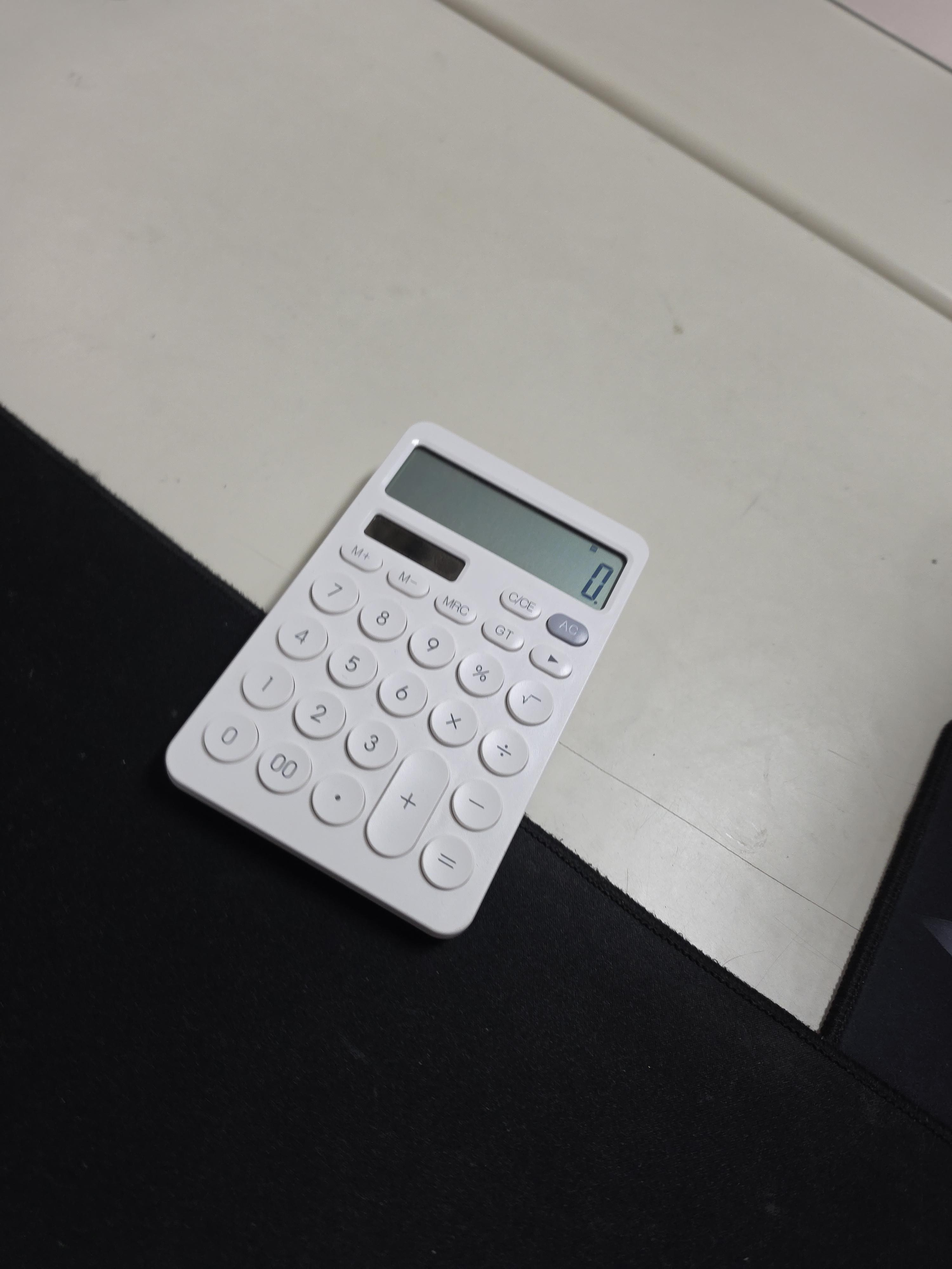calculator: (164, 421, 651, 940)
